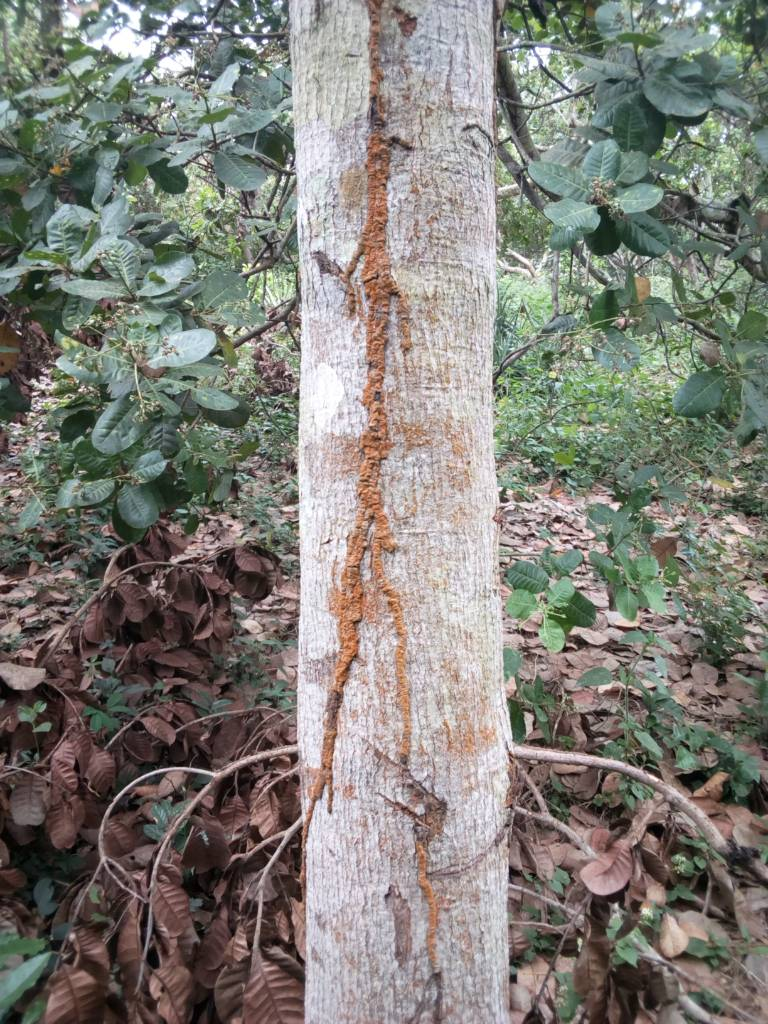Termites: (322, 2, 449, 997)
